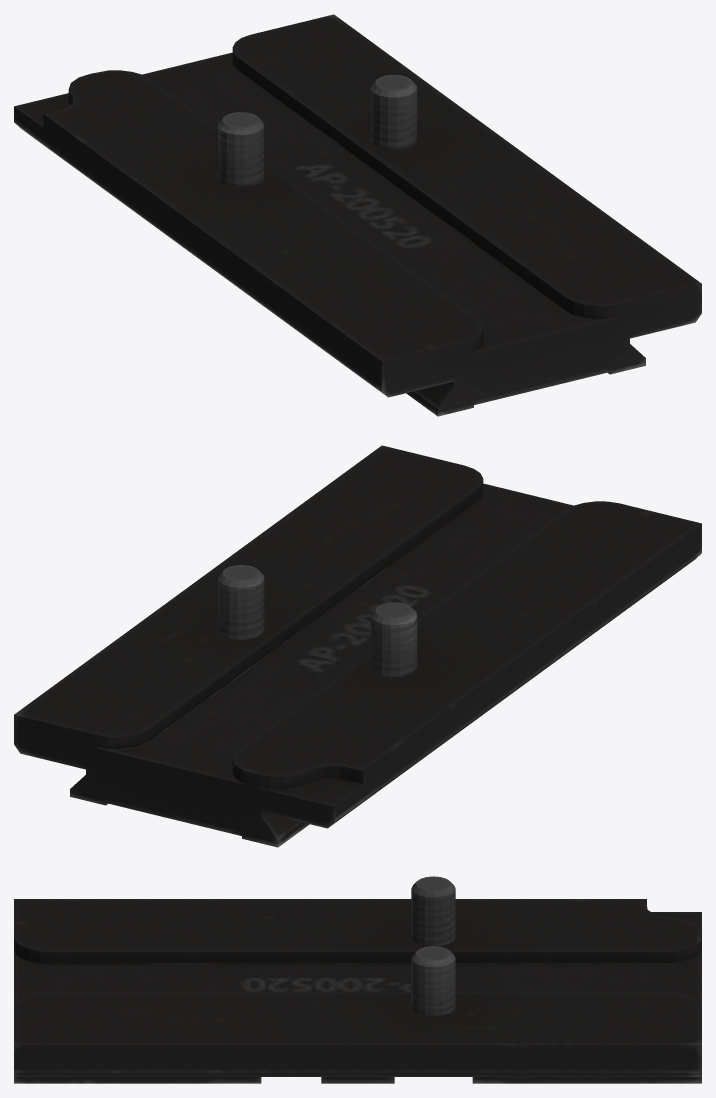
The picture shows the model from 3 angles, top to bottom: view 1: azimuth 30°, elevation 25°; view 2: azimuth 150°, elevation 25°; view 3: azimuth 270°, elevation 25°; orthographic projection. The views are drawn at different scales.
Visible parts, largest first — view 1: TW_615d8da4d3a39d50044c10e8_PZ_Import; view 2: TW_615d8da4d3a39d50044c10e8_PZ_Import; view 3: TW_615d8da4d3a39d50044c10e8_PZ_Import.
Part boxes in pixels (x1=…): TW_615d8da4d3a39d50044c10e8_PZ_Import: x1=14, y1=14, x2=701, y2=416; TW_615d8da4d3a39d50044c10e8_PZ_Import: x1=14, y1=445, x2=701, y2=847; TW_615d8da4d3a39d50044c10e8_PZ_Import: x1=14, y1=876, x2=701, y2=1083.
Size of the model in its own units: 0.014 by 0.0279 by 0.00525.
1 material, 1 textured.
